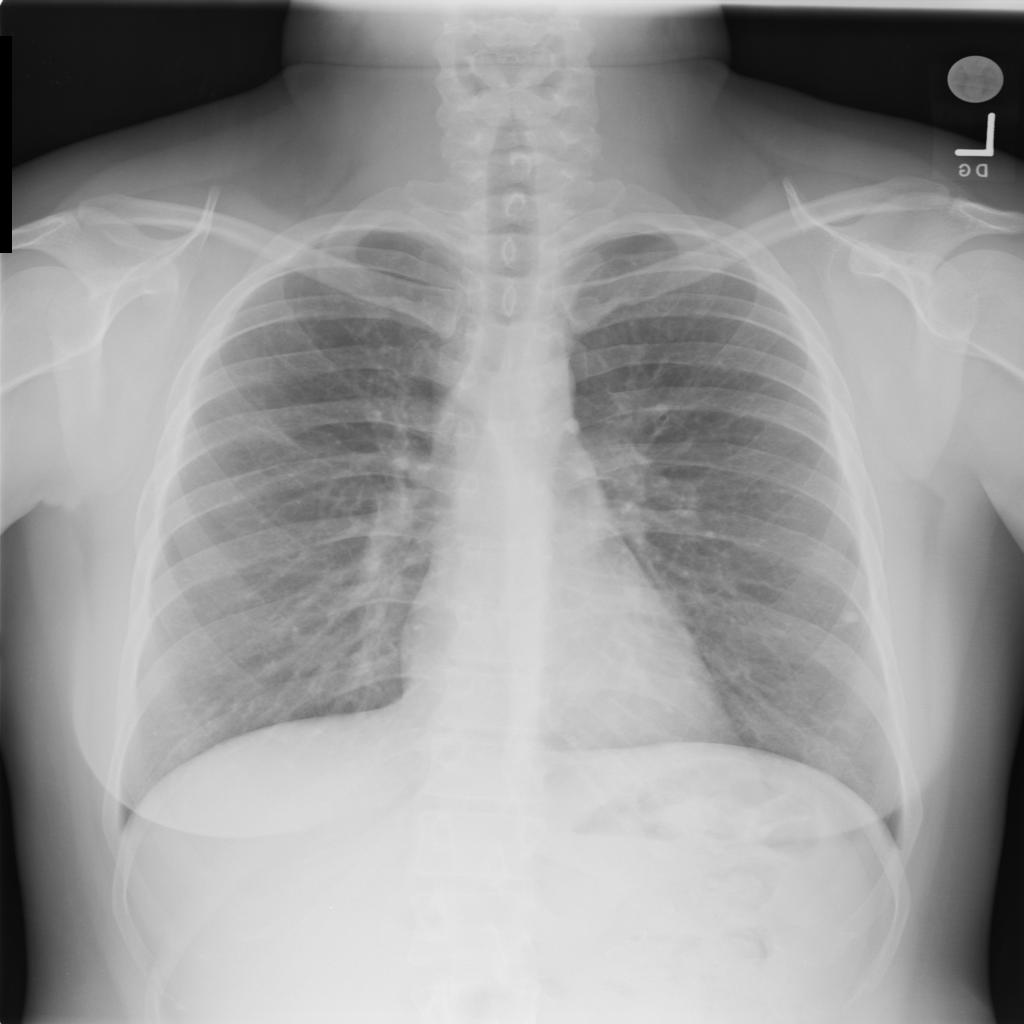nodule: (822, 595, 876, 641)
